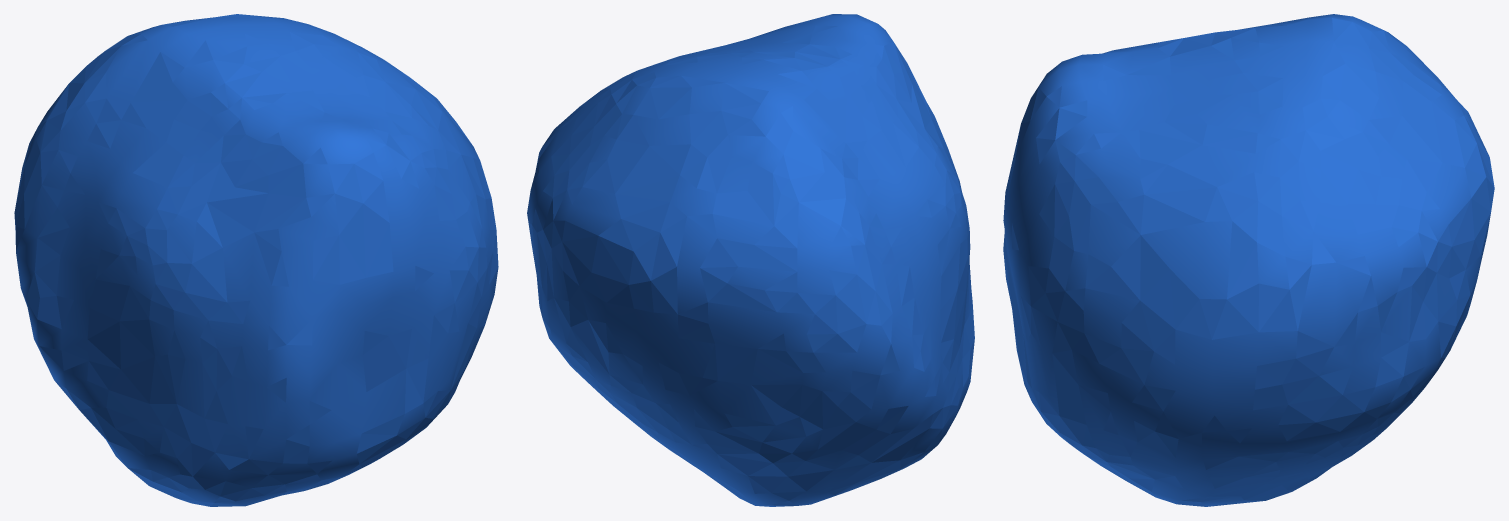
Rendered from blue_rock_mid.dae.
The picture shows the model from 3 angles, left to right: view 1: azimuth 30°, elevation 25°; view 2: azimuth 150°, elevation 25°; view 3: azimuth 270°, elevation 25°; orthographic projection. The views are drawn at different scales.
Visible parts, largest first — view 1: Rock_048_Cube_063; view 2: Rock_048_Cube_063; view 3: Rock_048_Cube_063.
Boxes of the visible parts, box(x1,y1,x2,y2) form: Rock_048_Cube_063: box(14, 14, 498, 506); Rock_048_Cube_063: box(527, 14, 974, 506); Rock_048_Cube_063: box(1003, 14, 1494, 506).
Bounding box in the file's own units: 0.6133 × 0.6123 × 0.6316.
